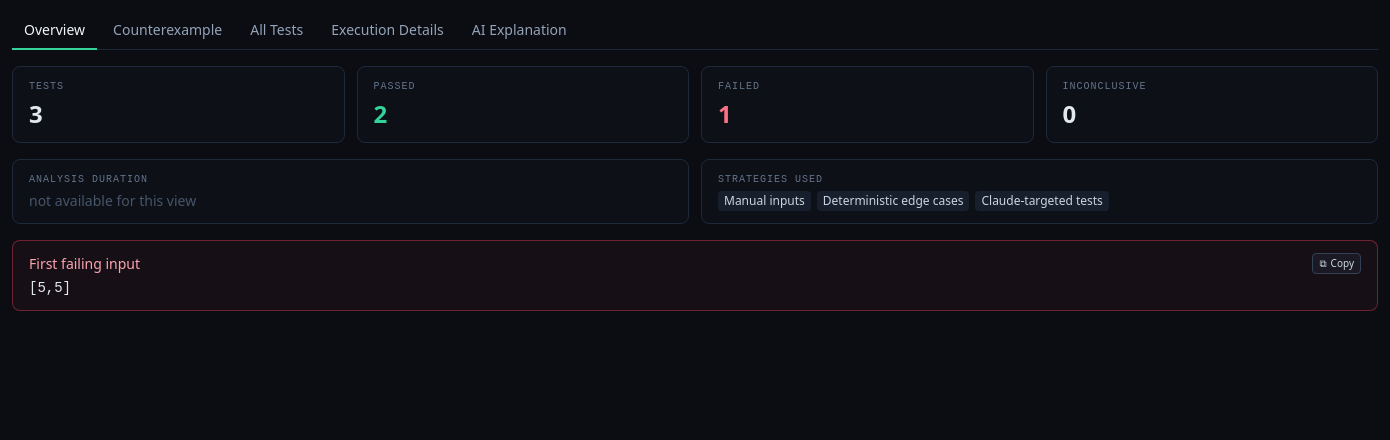
Test: ResultsView › expands a test row to reveal candidate and reference details
What coordinates should you click on to do the following:
click the tab "All Tests"
I would click on:
 (277, 31)
Its box is [238,12,315,50].
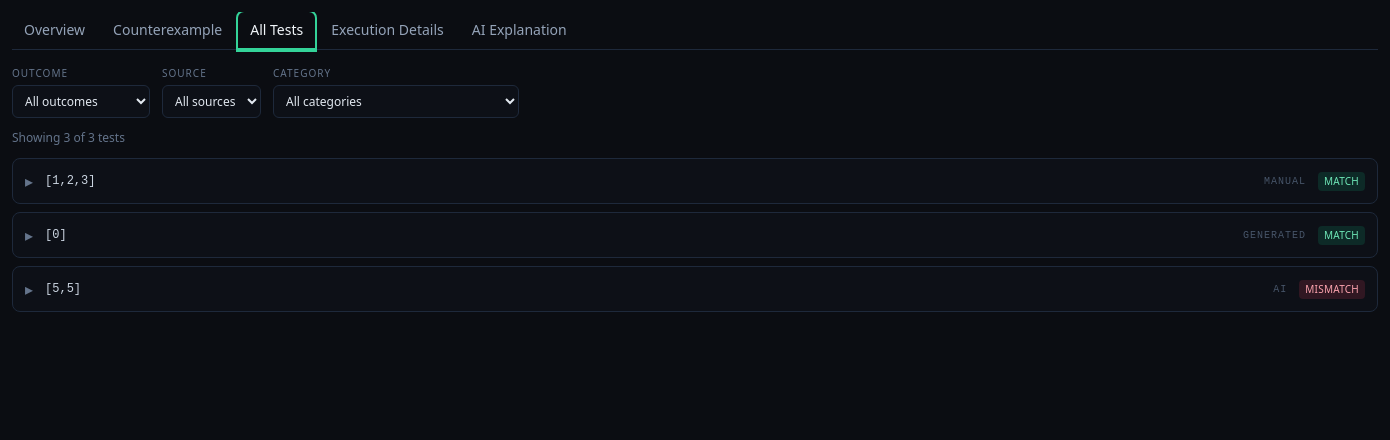
What coordinates should you click on to do the following:
click the button "▸ [5,5] ai mismatch"
I would click on:
 (63, 289)
Its box is [13,267,1377,311].
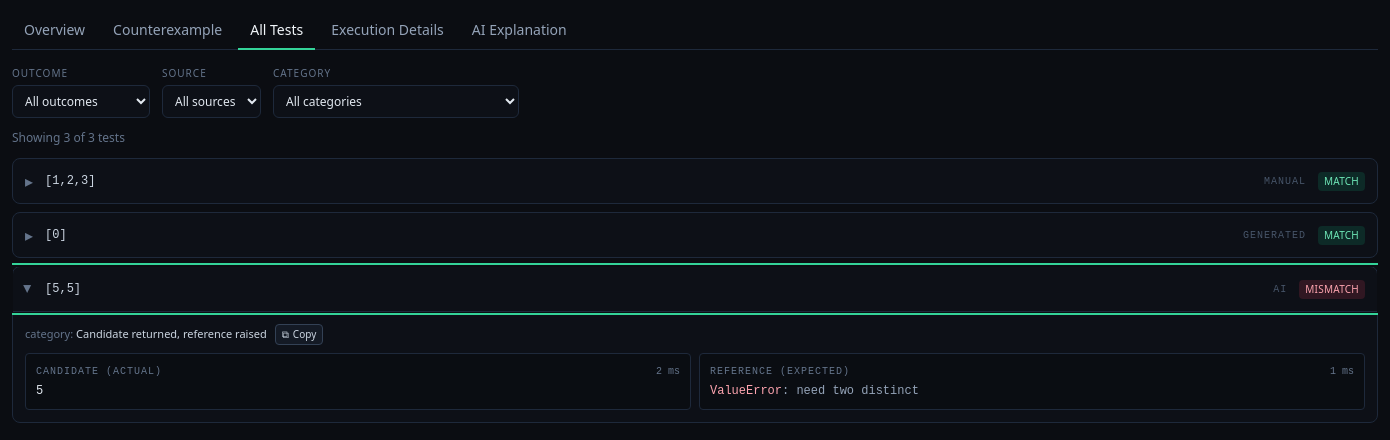
Expected: the button "▸ [5,5] ai mismatch" is expanded, [13,267,1377,311]
Expected: the text ": need two distinct" is shown, [782,384,919,398]
